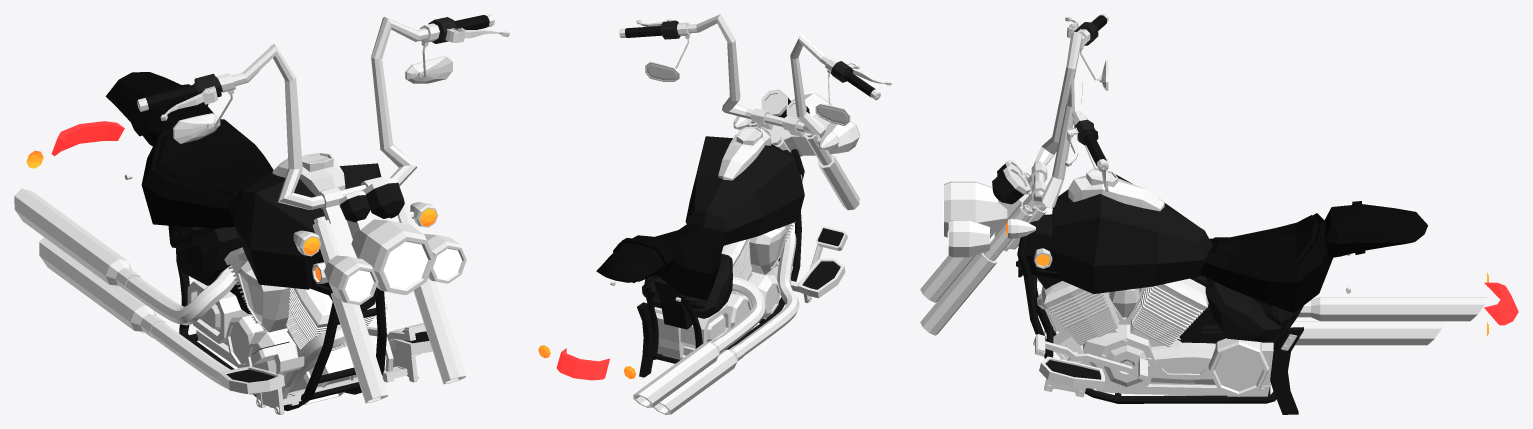
The model's file is body.glb.
3 renders of one model, left to right at view 1: azimuth 30°, elevation 25°; view 2: azimuth 150°, elevation 25°; view 3: azimuth 270°, elevation 25°, orthographic. The views are drawn at different scales.
Visible parts, largest first — view 1: Object_11, Object_3, Object_7, Object_15, Object_5, Object_8, Object_10, Object_2, Object_6, Object_14; view 2: Object_11, Object_15, Object_3, Object_7, Object_5, Object_10, Object_2, Object_6; view 3: Object_11, Object_15, Object_3, Object_7, Object_5, Object_10, Object_2, Object_6.
Part boxes in pixels (x1,y1,x2,y2): Object_11: [124, 14, 509, 403]; Object_3: [14, 23, 465, 414]; Object_7: [105, 72, 273, 227]; Object_15: [168, 163, 404, 313]; Object_5: [176, 248, 386, 410]; Object_8: [345, 241, 461, 300]; Object_10: [145, 15, 489, 382]; Object_2: [51, 121, 124, 156]; Object_6: [193, 17, 456, 97]; Object_14: [26, 150, 436, 281]; Object_11: [610, 14, 891, 358]; Object_15: [642, 98, 809, 329]; Object_3: [633, 19, 859, 414]; Object_7: [596, 223, 726, 300]; Object_5: [637, 149, 804, 377]; Object_10: [625, 26, 875, 289]; Object_2: [556, 348, 609, 380]; Object_6: [660, 21, 853, 82]; Object_11: [920, 14, 1350, 396]; Object_15: [992, 164, 1301, 345]; Object_3: [993, 23, 1487, 397]; Object_7: [1200, 201, 1427, 313]; Object_5: [1017, 214, 1303, 414]; Object_10: [1016, 15, 1106, 379]; Object_2: [1484, 282, 1518, 325]; Object_6: [1074, 22, 1098, 145].
Size of the model in its own units: 1.15 by 1.23 by 1.95.
